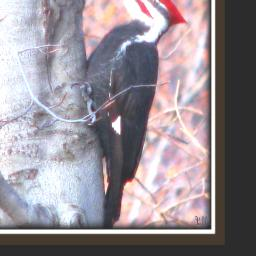Woodpecker: (70, 0, 188, 229)
